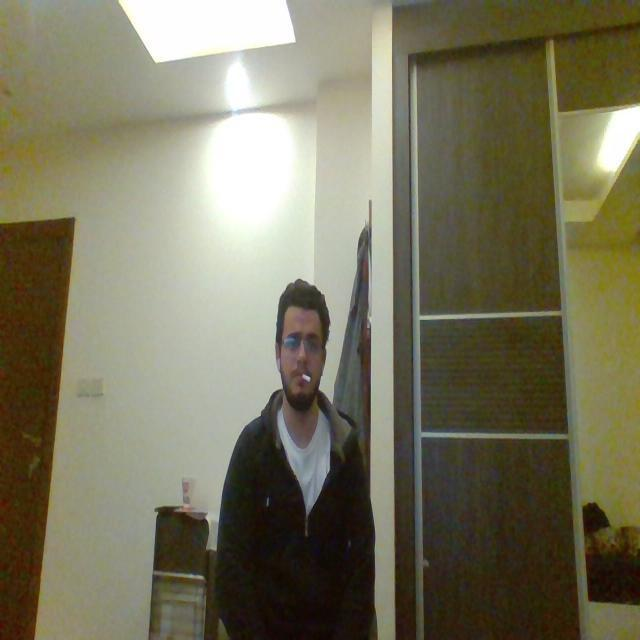smoking: (285, 362, 320, 387)
